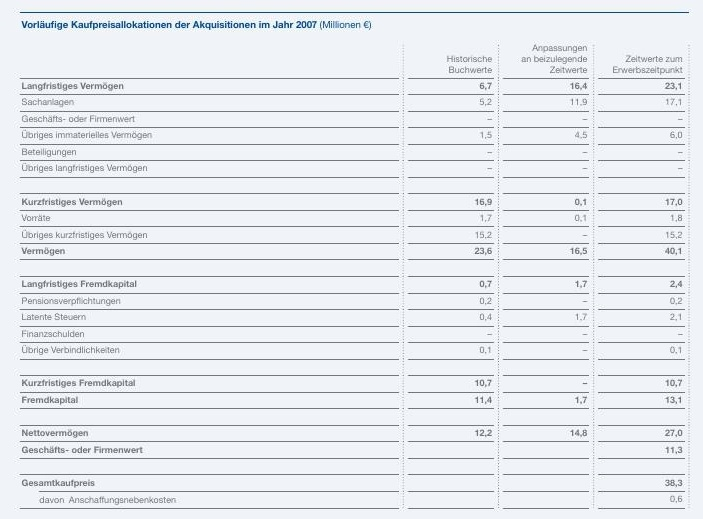table: (0, 0, 703, 519)
